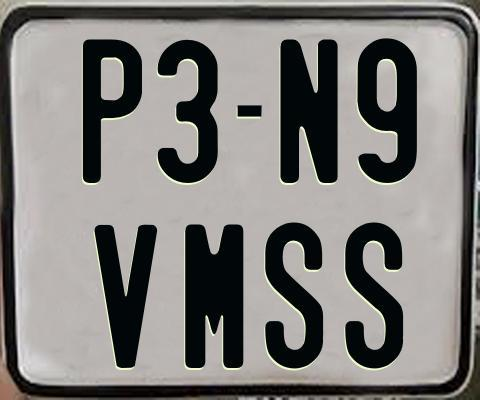3: (157, 39, 218, 186)
9: (354, 35, 417, 180)
M: (182, 223, 245, 368)
N: (277, 38, 338, 186)
P: (82, 38, 145, 188)
S: (265, 220, 329, 368), (342, 219, 406, 367)
V: (94, 222, 161, 366)
